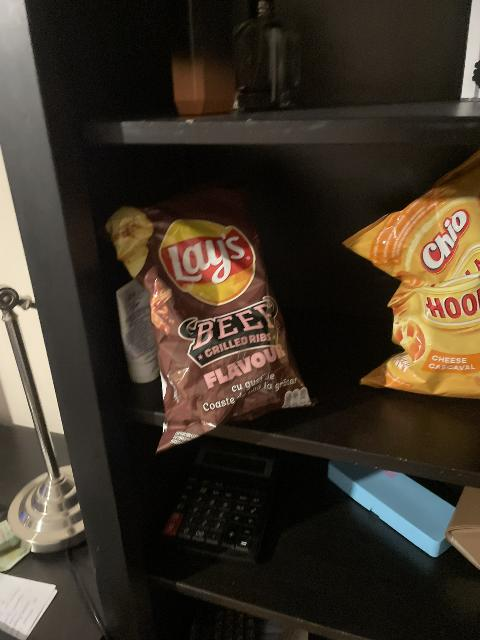Chio Cascaval 125g: (340, 128, 477, 394)
Lays Beef Grilled Ribs 125g: (107, 190, 323, 444)
